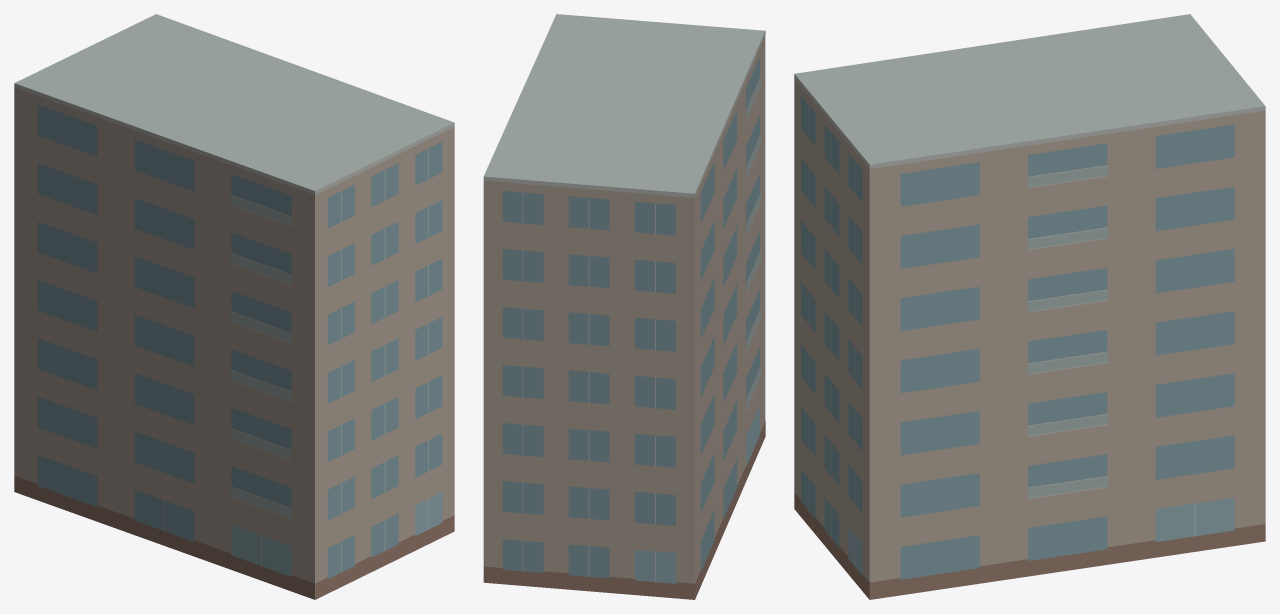
File: survey-upis-32943237.glb
3 renders of one model, left to right at view 1: azimuth 30°, elevation 25°; view 2: azimuth 150°, elevation 25°; view 3: azimuth 270°, elevation 25°, orthographic. The views are drawn at different scales.
Visible parts, largest first — view 1: survey-upis-32943237.tmp; view 2: survey-upis-32943237.tmp; view 3: survey-upis-32943237.tmp.
Boxes of the visible parts, <box> form: survey-upis-32943237.tmp: <box>14,14,454,599</box>; survey-upis-32943237.tmp: <box>483,14,765,599</box>; survey-upis-32943237.tmp: <box>794,14,1265,599</box>.
Bounding box in the file's own units: 17.9 × 24.1 × 23.65.
